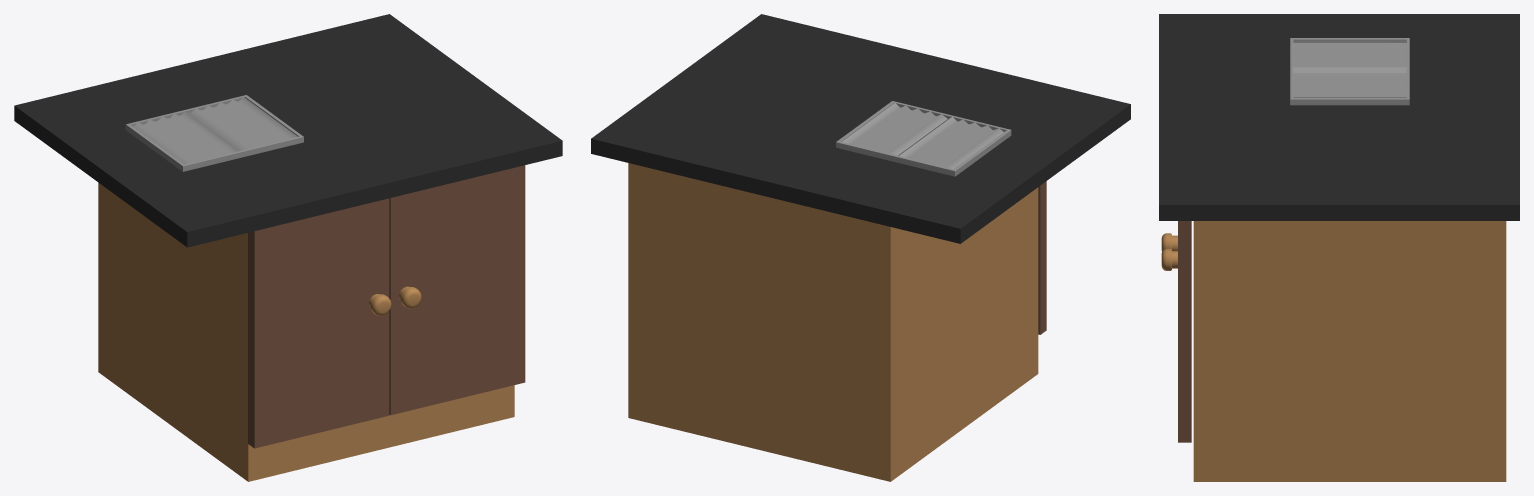
Rendered from Bench01.fbx.
3 views of the same model, side by side, from view 1: azimuth 30°, elevation 25°; view 2: azimuth 150°, elevation 25°; view 3: azimuth 270°, elevation 25° (orthographic). The views are drawn at different scales.
Visible parts, largest first — view 1: pCube5; view 2: pCube5; view 3: pCube5.
Boxes of the visible parts, left/top/right/bottom form: pCube5: left=14, top=14, right=562, bottom=481; pCube5: left=591, top=14, right=1130, bottom=481; pCube5: left=1159, top=14, right=1519, bottom=481.
Size of the model in its own units: 15.64 by 11.42 by 12.49.
